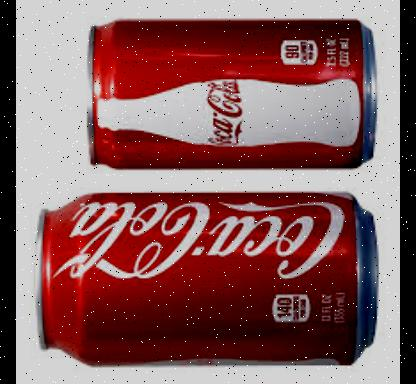Can: (34, 192, 376, 366), (86, 20, 374, 170)
